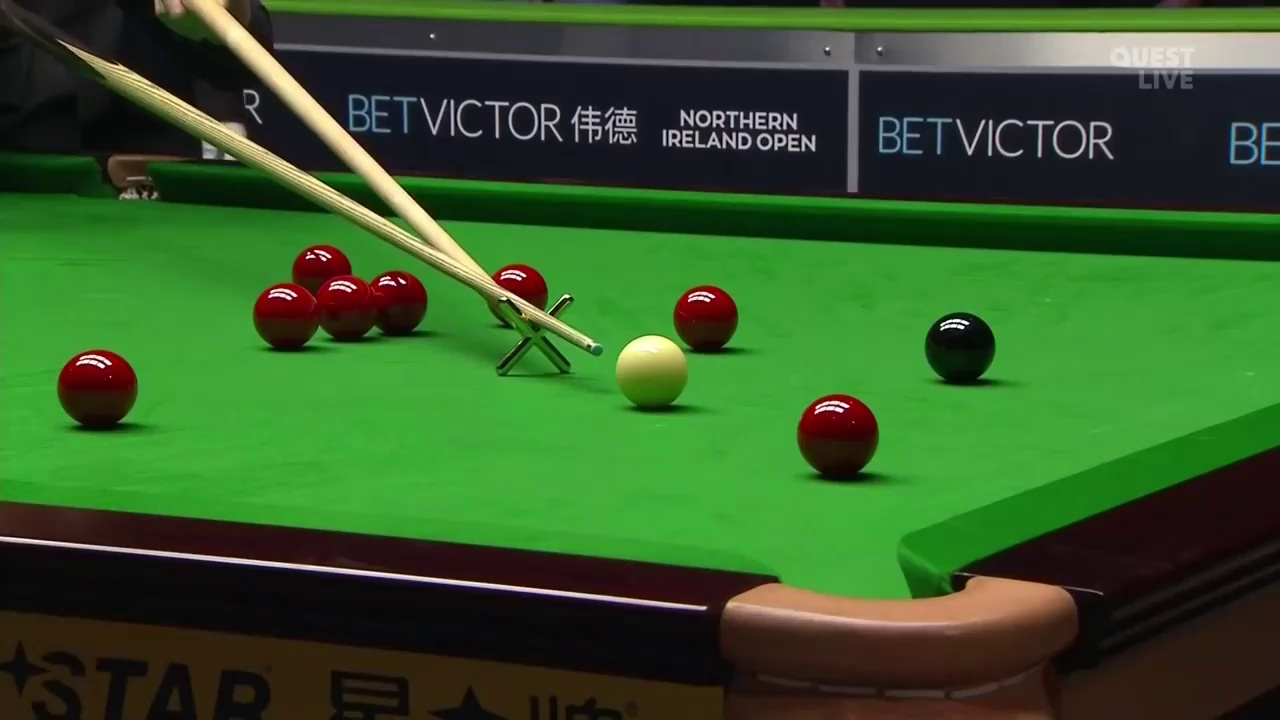black: (927, 315, 995, 383)
red: (796, 393, 877, 476), (56, 354, 139, 432), (251, 284, 319, 353), (374, 270, 428, 337), (673, 286, 738, 340)
white: (613, 337, 689, 411)
